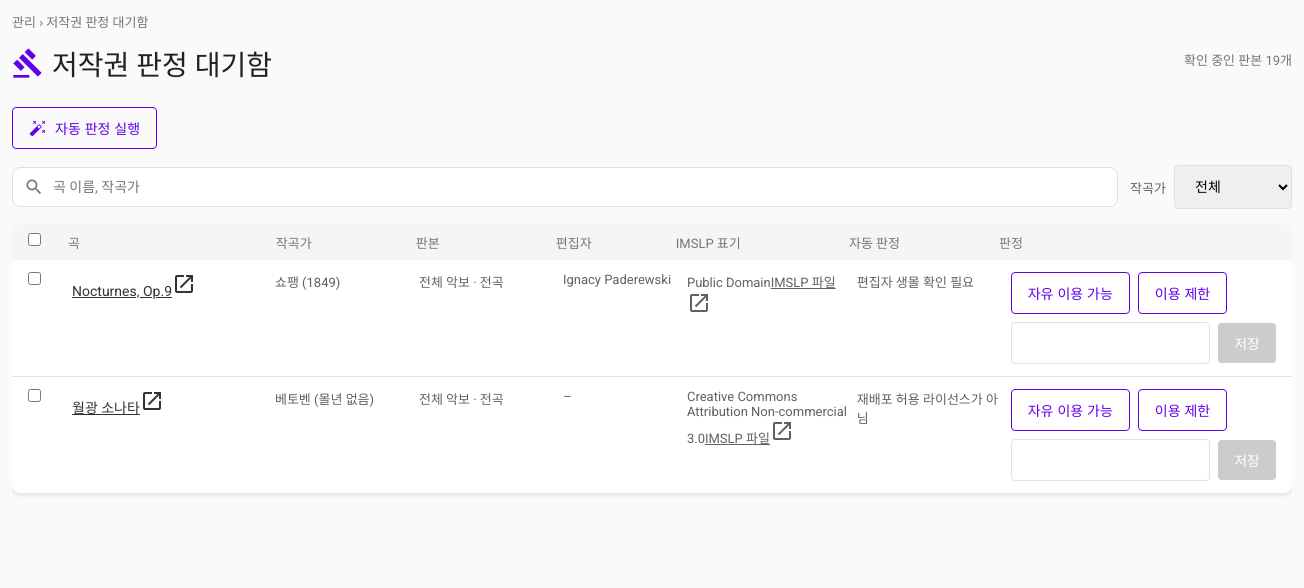
CopyrightPendingPage — 자동 판정 실행 (02 §5-11) › 자동으로 열 수 있는 판본이 없으면(재실행) 확인 창 대신 그 사실만 알린다
The width and height of the screenshot is (1304, 588).
Click the button "자동 판정 실행".
click(85, 128)  # box [12, 107, 157, 149]
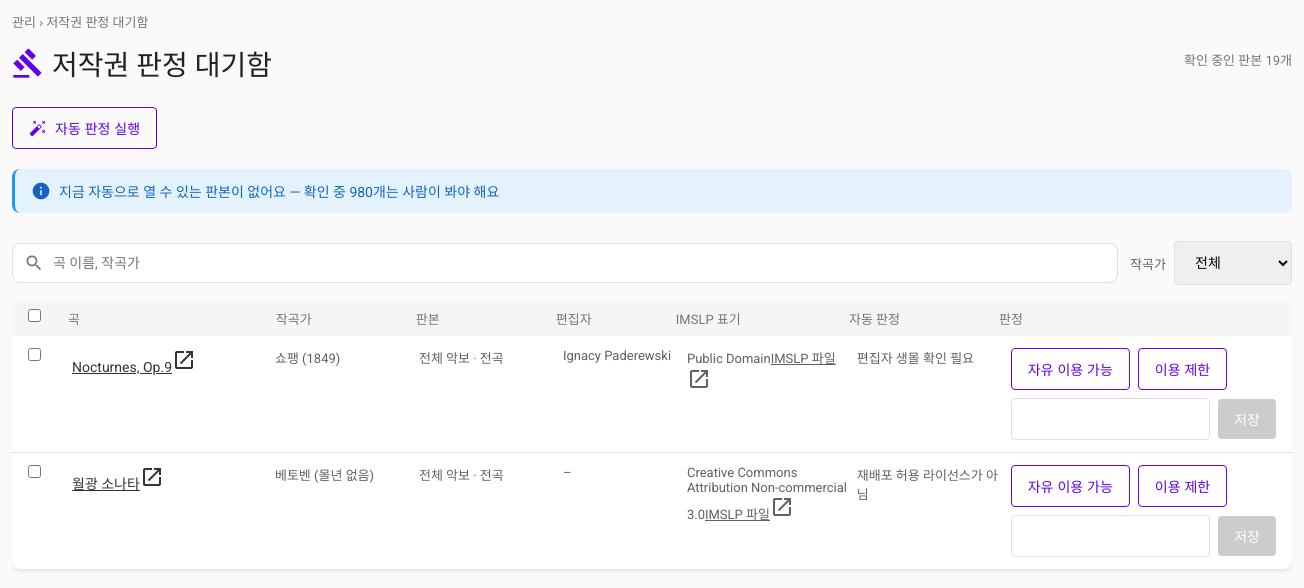
Expected: the text "자동으로 열 수 있는 판본이 없어요" is shown, [59, 184, 499, 200]
